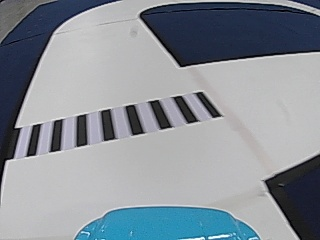CrossWalk: (16, 92, 223, 156)
